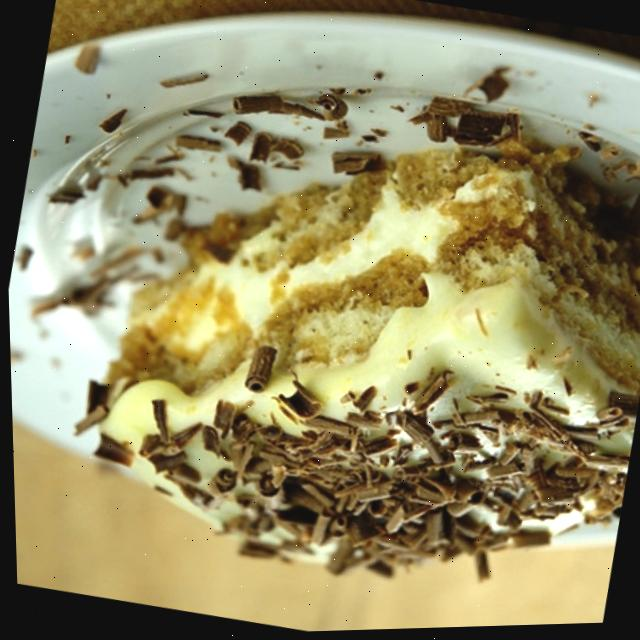蛋糕甜品: (1, 12, 640, 640)
